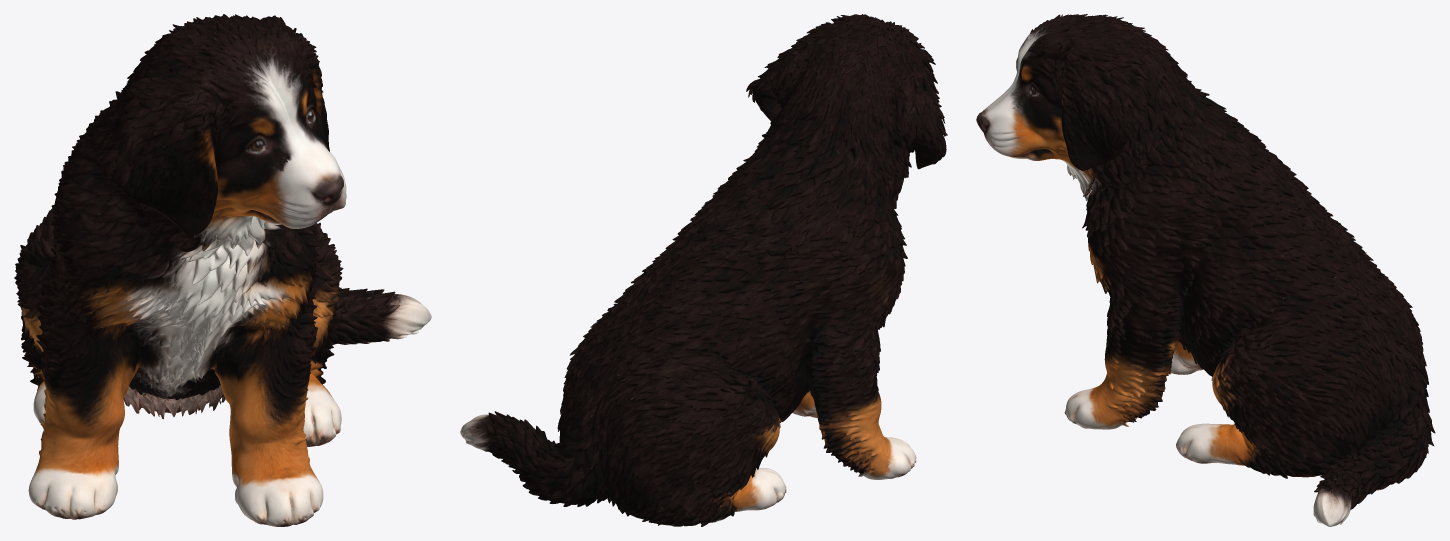
Rendered from puppy.glb.
3 renders of one model, left to right at view 1: azimuth 30°, elevation 25°; view 2: azimuth 150°, elevation 25°; view 3: azimuth 270°, elevation 25°, orthographic. The views are drawn at different scales.
Visible parts, largest first — view 1: puppy; view 2: puppy; view 3: puppy.
Boxes of the visible parts, x1,y1,x2,y2 form: puppy: (14, 14, 431, 526); puppy: (460, 14, 947, 526); puppy: (976, 14, 1435, 526).
Size of the model in its own units: 0.4055 by 0.3971 by 0.4369.
Materials: 1 (1 with a texture image).
